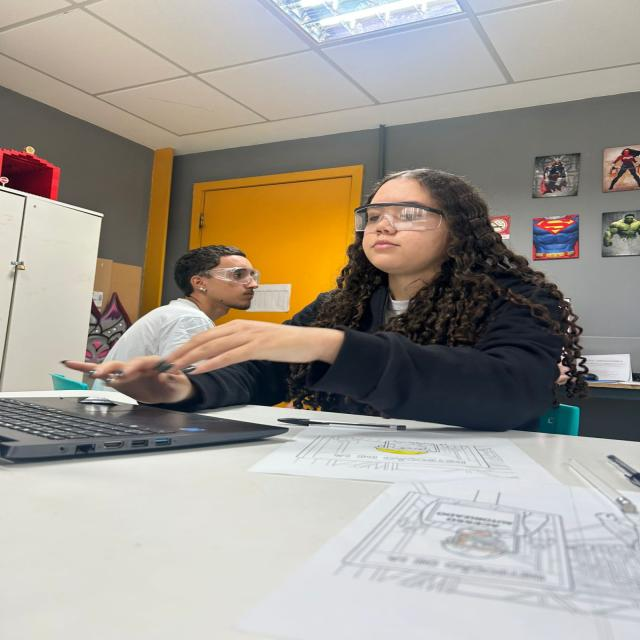oculos-epi: (354, 202, 445, 233), (198, 268, 261, 283)
